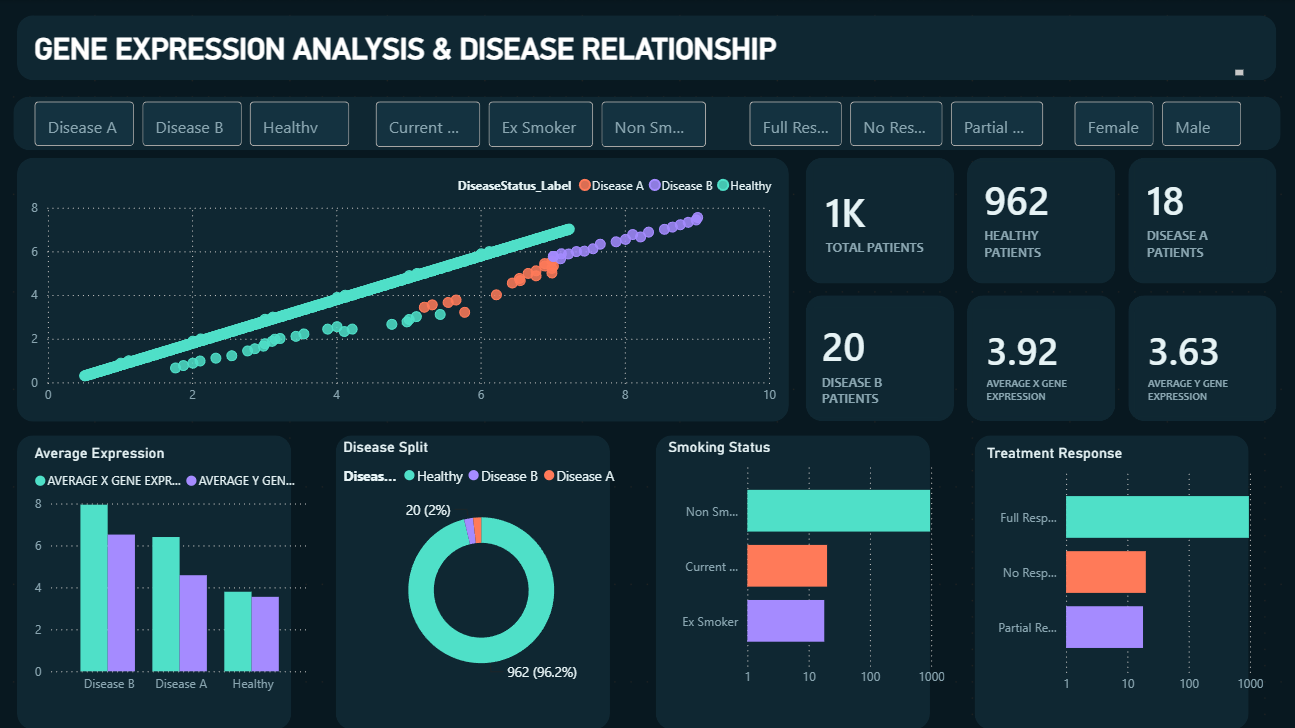

This screenshot's page, from the dashboard's own definition file:
{"tool":"powerbi","page":{"name":"DASHBOARD1","canvas":[1280,720],"ordinal":0},"visuals":[{"type":"shape","box":[20,16,1240,64],"z":0},{"type":"shape","box":[16,96,1248,53],"z":1000},{"type":"shape","box":[20,156,760,260],"z":2000},{"type":"shape","box":[796,156,146,124],"z":3000},{"type":"shape","box":[955,156,146,124],"z":4000},{"type":"shape","box":[1114,156,146,124],"z":5000},{"type":"shape","box":[796,292,146,124],"z":6000},{"type":"shape","box":[955,292,146,124],"z":7000},{"type":"shape","box":[1114,292,146,124],"z":8000},{"type":"shape","box":[20,430,270,290],"z":9000},{"type":"shape","box":[334,430,270,290],"z":10000},{"type":"shape","box":[648,430,270,290],"z":11000},{"type":"shape","box":[962,430,270,290],"z":12000},{"type":"cardVisual","fields":{"Data":["Gene.TOTAL PATIENTS"]},"box":[804,164,130,108],"z":13000},{"type":"scatterChart","fields":{"X":["Avg(Gene.Gene_X_Expression)"],"Y":["Avg(Gene.Gene_Y_Expression)"],"Series":["Gene.DiseaseStatus_Label"],"Category":["Gene.PatientID"]},"box":[28,164,744,244],"z":14000},{"type":"clusteredColumnChart","title":"Average Expression","fields":{"Category":["Gene.DiseaseStatus_Label"],"Y":["Gene.AVERAGE X GENE EXPRESSION","Gene.AVERAGE Y GENE EXPRESSION"]},"box":[32,438,282,254],"z":15000},{"type":"donutChart","title":"Disease Split","fields":{"Category":["Gene.DiseaseStatus_Label"],"Y":["Gene.TOTAL PATIENTS"]},"box":[336,432,282,254],"z":16000},{"type":"clusteredBarChart","title":"Smoking Status","fields":{"Y":["Gene.TOTAL PATIENTS"],"Category":["Gene.SmokingStatus_Label"]},"box":[656,432,282,254],"z":17000},{"type":"clusteredBarChart","title":"Treatment Response","fields":{"Y":["Gene.TOTAL PATIENTS"],"Category":["Gene.TreatmentResponse_Label"]},"box":[970,438,282,254],"z":18000},{"type":"advancedSlicerVisual","fields":{"Values":["Gene.DiseaseStatus_Label"]},"box":[32,96,320,54],"z":19000},{"type":"advancedSlicerVisual","fields":{"Values":["Gene.Gender_Label"]},"box":[1056,96,175,54],"z":20000},{"type":"advancedSlicerVisual","fields":{"Values":["Gene.SmokingStatus_Label"]},"box":[368,96,336,55],"z":21000},{"type":"advancedSlicerVisual","fields":{"Values":["Gene.TreatmentResponse_Label"]},"box":[736,96,300,54],"z":22000},{"type":"textbox","title":"GENE EXPRESSION ANALYSIS & DISEASE RELATIONSHIP","box":[32,32,1200,48],"z":23000},{"type":"cardVisual","fields":{"Data":["Gene.HEALTHY PATIENTS"]},"box":[960,160,130,108],"z":24000},{"type":"cardVisual","fields":{"Data":["Gene.DISEASE A PATIENTS"]},"box":[1120,160,130,108],"z":25000},{"type":"cardVisual","fields":{"Data":["Gene.DISEASE B PATIENTS"]},"box":[800,304,130,108],"z":26000},{"type":"cardVisual","fields":{"Data":["Gene.AVERAGE X GENE EXPRESSION"]},"box":[960,304,130,108],"z":27000},{"type":"cardVisual","fields":{"Data":["Gene.AVERAGE Y GENE EXPRESSION"]},"box":[1120,304,130,108],"z":28000}]}

Visuals, with their boxes in screenshot pixels (x1, y1, x2, y2), scaled from the page's 1280x720 canvas onto the 1295x728 screenshot:
shape: <bbox>20, 16, 1275, 81</bbox>
shape: <bbox>16, 97, 1279, 151</bbox>
shape: <bbox>20, 158, 789, 421</bbox>
shape: <bbox>805, 158, 953, 283</bbox>
shape: <bbox>966, 158, 1114, 283</bbox>
shape: <bbox>1127, 158, 1275, 283</bbox>
shape: <bbox>805, 295, 953, 421</bbox>
shape: <bbox>966, 295, 1114, 421</bbox>
shape: <bbox>1127, 295, 1275, 421</bbox>
shape: <bbox>20, 435, 293, 727</bbox>
shape: <bbox>338, 435, 611, 727</bbox>
shape: <bbox>656, 435, 929, 727</bbox>
shape: <bbox>973, 435, 1246, 727</bbox>
cardVisual - Gene.TOTAL PATIENTS: <bbox>813, 166, 945, 275</bbox>
scatterChart - Avg(Gene.Gene_X_Expression) x Avg(Gene.Gene_Y_Expression): <bbox>28, 166, 781, 413</bbox>
"Average Expression" clusteredColumnChart: <bbox>32, 443, 318, 700</bbox>
"Disease Split" donutChart: <bbox>340, 437, 625, 694</bbox>
"Smoking Status" clusteredBarChart: <bbox>664, 437, 949, 694</bbox>
"Treatment Response" clusteredBarChart: <bbox>981, 443, 1267, 700</bbox>
advancedSlicerVisual - Gene.DiseaseStatus_Label: <bbox>32, 97, 356, 152</bbox>
advancedSlicerVisual - Gene.Gender_Label: <bbox>1068, 97, 1245, 152</bbox>
advancedSlicerVisual - Gene.SmokingStatus_Label: <bbox>372, 97, 712, 153</bbox>
advancedSlicerVisual - Gene.TreatmentResponse_Label: <bbox>745, 97, 1048, 152</bbox>
"GENE EXPRESSION ANALYSIS & DISEASE RELATIONSHIP" textbox: <bbox>32, 32, 1246, 81</bbox>
cardVisual - Gene.HEALTHY PATIENTS: <bbox>971, 162, 1103, 271</bbox>
cardVisual - Gene.DISEASE A PATIENTS: <bbox>1133, 162, 1265, 271</bbox>
cardVisual - Gene.DISEASE B PATIENTS: <bbox>809, 307, 941, 417</bbox>
cardVisual - Gene.AVERAGE X GENE EXPRESSION: <bbox>971, 307, 1103, 417</bbox>
cardVisual - Gene.AVERAGE Y GENE EXPRESSION: <bbox>1133, 307, 1265, 417</bbox>
